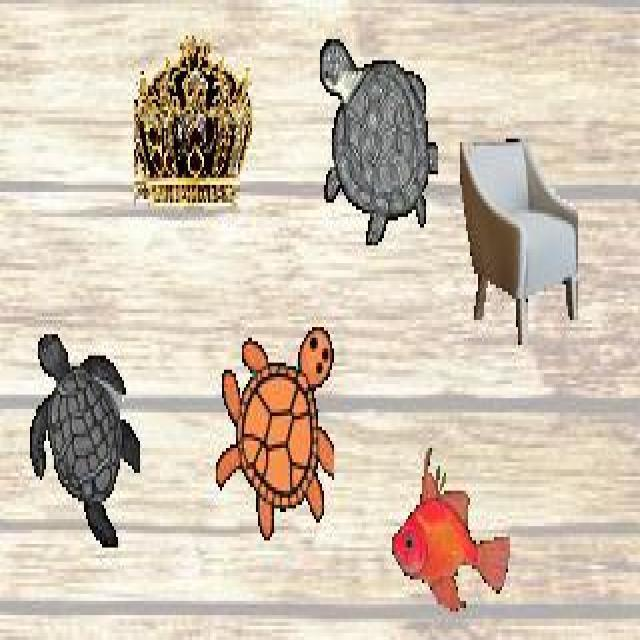Other Objects: (134, 34, 252, 204)
